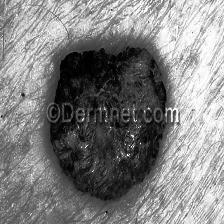Benign Marking or Mole: (58, 52, 166, 187)
